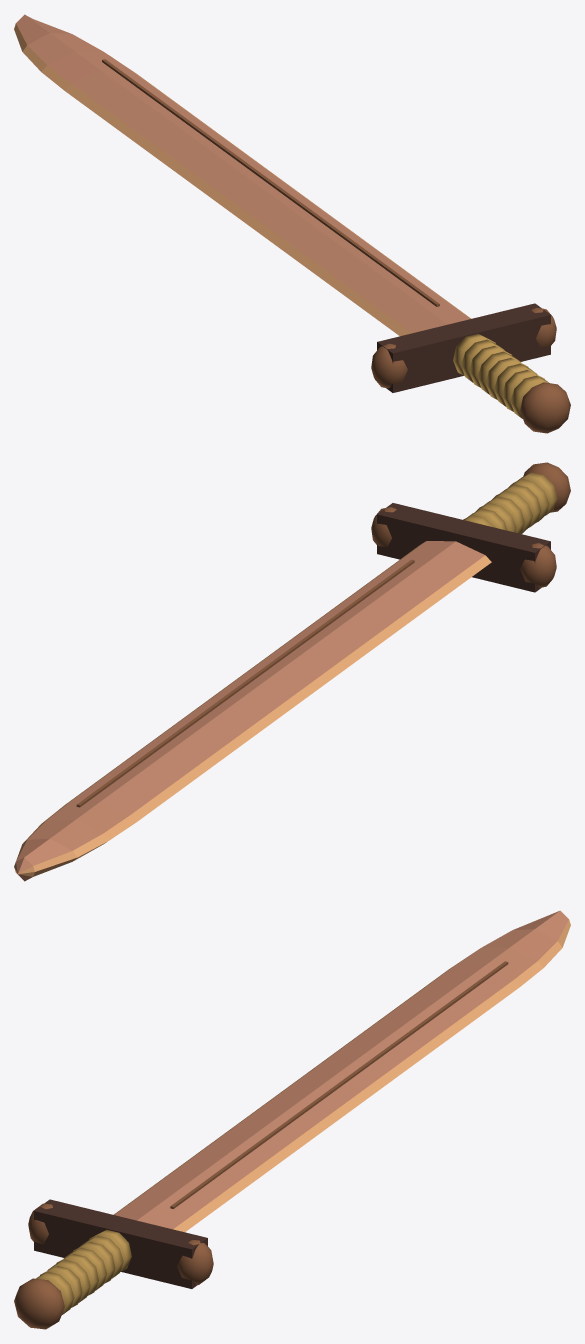
File: weapon_wooden_sword.glb
3 views of the same model, one above another, from view 1: azimuth 30°, elevation 25°; view 2: azimuth 150°, elevation 25°; view 3: azimuth 330°, elevation 25° (orthographic).
Visible parts, largest first — view 1: piece; view 2: piece; view 3: piece.
Part boxes in pixels (x1,y1,x2,y2): piece: [14, 14, 570, 433]; piece: [14, 462, 570, 881]; piece: [14, 910, 570, 1329].
Size of the model in its own units: 0.1704 by 0.044 by 0.885.
